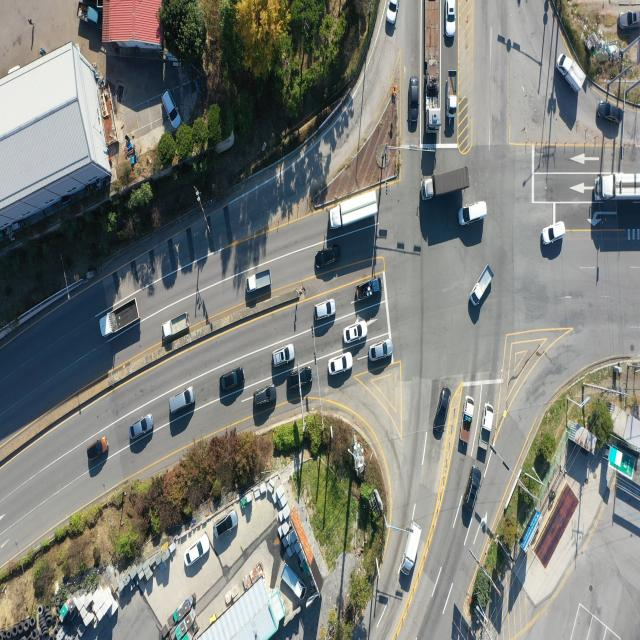car: (432, 387, 450, 433), (171, 384, 198, 413), (161, 92, 180, 132), (465, 466, 482, 510), (288, 365, 314, 393), (462, 201, 489, 227), (187, 538, 210, 568), (218, 369, 244, 394), (596, 101, 622, 126), (343, 322, 368, 346), (132, 415, 155, 441), (327, 352, 353, 375), (252, 384, 276, 408), (315, 245, 340, 268), (215, 513, 237, 539), (541, 221, 564, 245), (272, 344, 295, 368), (368, 340, 392, 362), (88, 438, 110, 462), (411, 78, 421, 130), (313, 300, 335, 321), (618, 10, 640, 29), (446, 0, 457, 37), (386, 0, 399, 24)
large_truck: (422, 0, 440, 129)
medium_truck: (328, 188, 379, 232), (422, 160, 469, 201), (99, 299, 141, 341), (599, 176, 640, 204)
small_truck: (557, 52, 585, 94), (400, 520, 419, 577), (471, 266, 494, 306), (280, 563, 304, 600), (479, 402, 495, 450), (461, 397, 477, 445), (164, 316, 193, 342), (248, 270, 274, 294), (357, 275, 381, 301), (77, 2, 100, 27), (446, 69, 456, 115)
